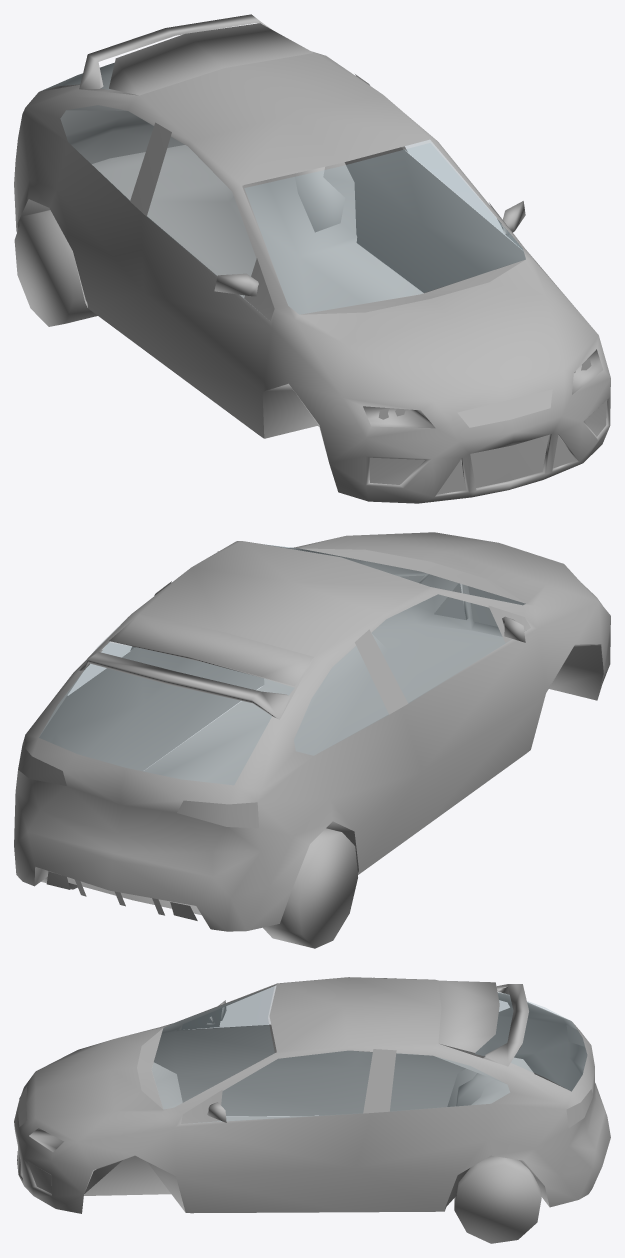
File: Car_16_LOD2.FBX
The picture shows the model from 3 angles, top to bottom: view 1: azimuth 30°, elevation 25°; view 2: azimuth 150°, elevation 25°; view 3: azimuth 270°, elevation 25°; orthographic projection. The views are drawn at different scales.
Parts seen in each view (by area): view 1: Body_16, Matte_16, Glass_16, Wheel_BackR, Wheel_BackL; view 2: Body_16, Matte_16, Glass_16, Wheel_BackR, Taillight_16; view 3: Body_16, Glass_16, Matte_16, Wheel_BackL, Taillight_16, Wheel_BackR.
Boxes of the visible parts, x1,y1,x2,y2 form: Body_16: (14, 51, 610, 503); Matte_16: (17, 14, 607, 494); Glass_16: (43, 63, 525, 314); Wheel_BackR: (14, 210, 97, 326); Wheel_BackL: (294, 167, 345, 232); Body_16: (14, 532, 610, 931); Matte_16: (34, 548, 603, 920); Glass_16: (39, 544, 524, 784); Wheel_BackR: (263, 828, 357, 948); Taillight_16: (18, 745, 258, 828); Body_16: (14, 977, 610, 1213); Glass_16: (152, 986, 586, 1121); Matte_16: (18, 977, 549, 1212); Wheel_BackL: (454, 1155, 541, 1243); Taillight_16: (566, 1025, 593, 1127); Wheel_BackR: (456, 1073, 493, 1106).
Size of what is drawn, in the model's own units: 1.91 by 1.49 by 4.3.
